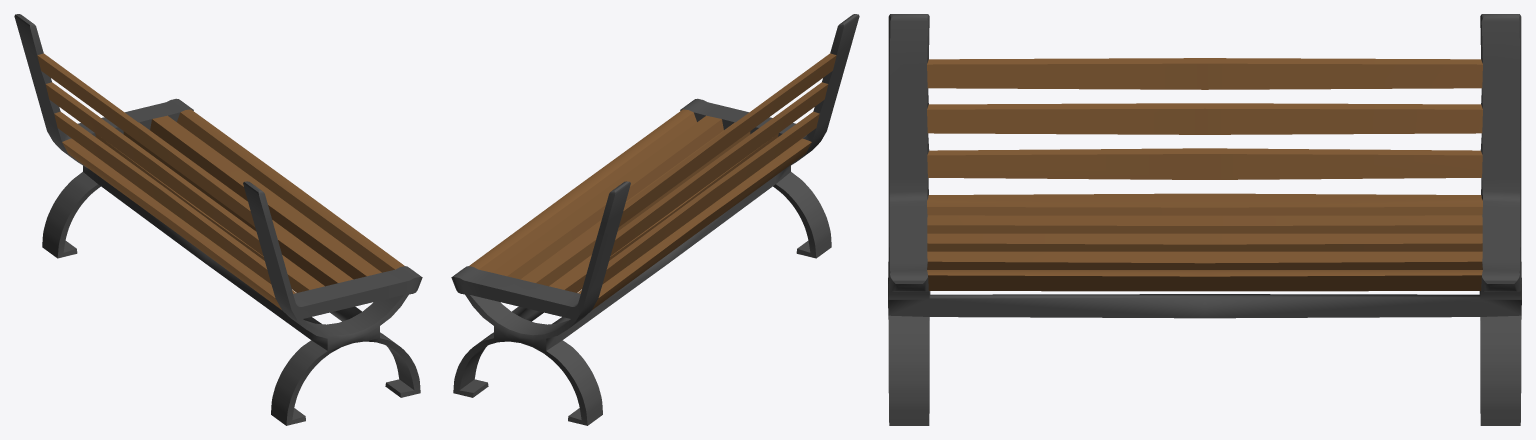
File: bench.fbx
The picture shows the model from 3 angles, left to right: view 1: azimuth 30°, elevation 25°; view 2: azimuth 150°, elevation 25°; view 3: azimuth 270°, elevation 25°; orthographic projection. The views are drawn at different scales.
Visible parts, largest first — view 1: Cylinder.001; view 2: Cylinder.001; view 3: Cylinder.001.
Part boxes in pixels (box(x1,y1,x2,y2)): Cylinder.001: box(14, 14, 422, 425); Cylinder.001: box(451, 14, 859, 425); Cylinder.001: box(888, 14, 1521, 425).
Size of the model in its own units: 251 by 348 by 643.
